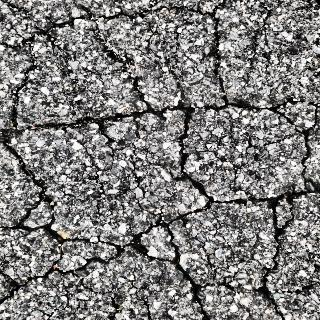alligator-crack: (2, 7, 318, 319)
